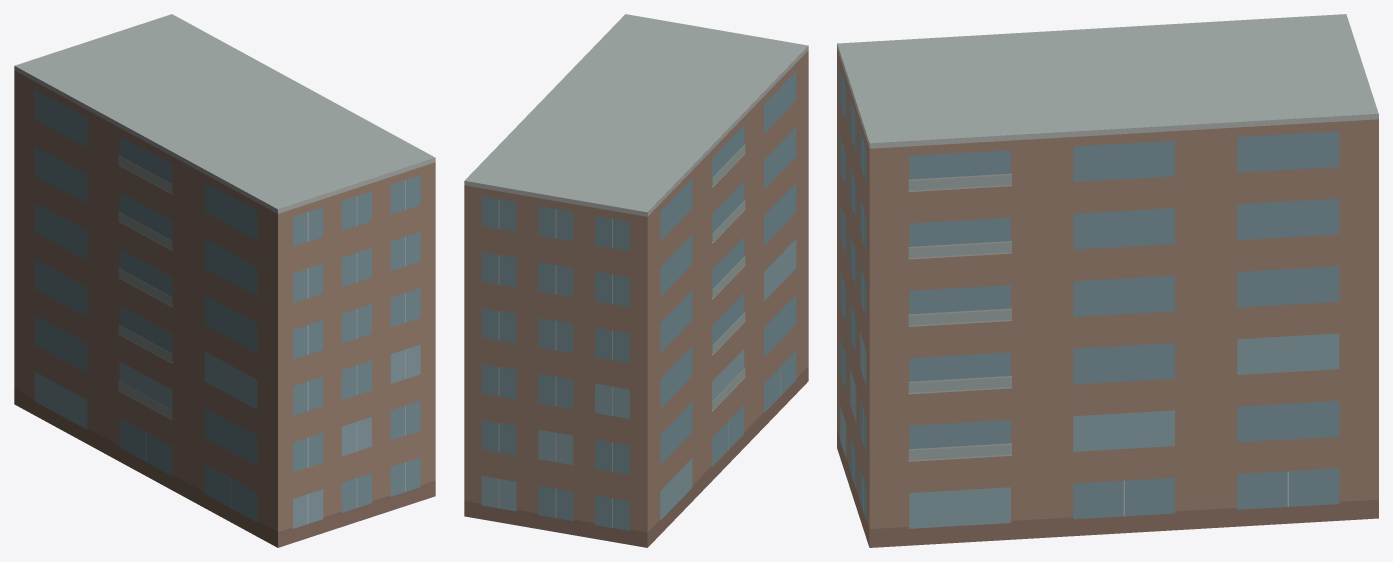
The model's file is survey-upis-32726720.glb.
3 views of the same model, side by side, from view 1: azimuth 30°, elevation 25°; view 2: azimuth 150°, elevation 25°; view 3: azimuth 270°, elevation 25° (orthographic). The views are drawn at different scales.
Visible parts, largest first — view 1: survey-upis-32726720.tmp; view 2: survey-upis-32726720.tmp; view 3: survey-upis-32726720.tmp.
Boxes of the visible parts, x1=… form: survey-upis-32726720.tmp: x1=14, y1=14, x2=435, y2=547; survey-upis-32726720.tmp: x1=464, y1=14, x2=808, y2=547; survey-upis-32726720.tmp: x1=837, y1=14, x2=1378, y2=547.
Size of the model in its own units: 12.49 by 18.2 by 22.1.
